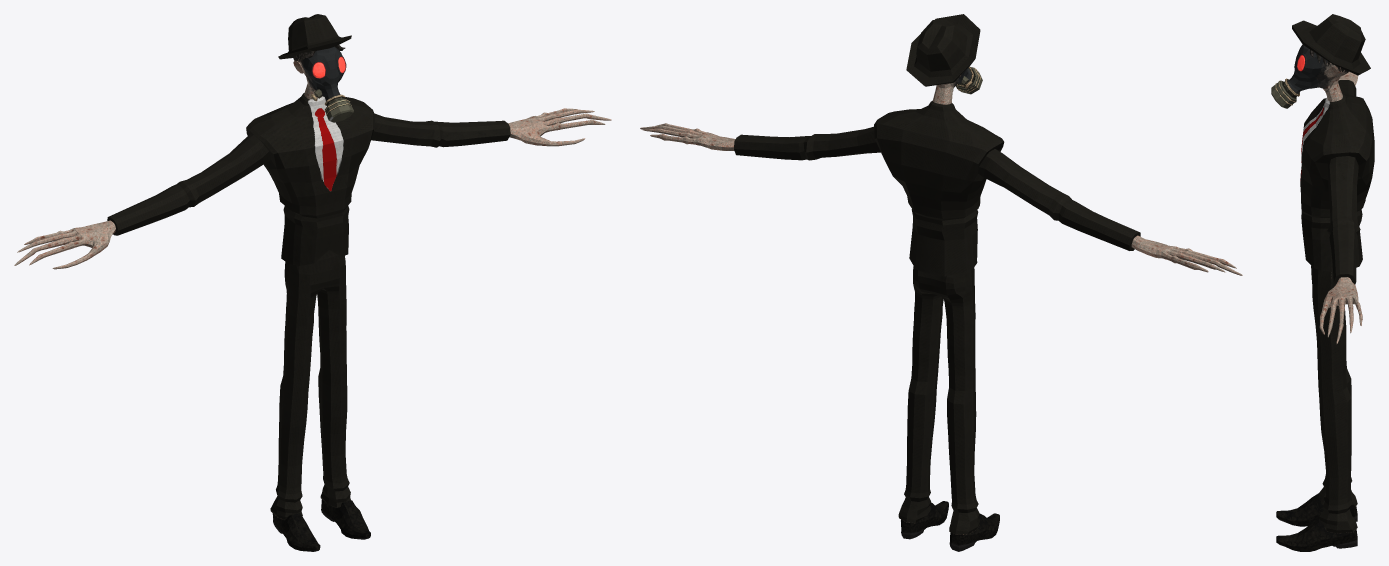
Rendered from RESIZED_Killer Mixamo TPose.fbx.
The picture shows the model from 3 angles, left to right: view 1: azimuth 30°, elevation 25°; view 2: azimuth 150°, elevation 25°; view 3: azimuth 270°, elevation 25°; orthographic projection.
Visible parts, largest first — view 1: TPose Only; view 2: TPose Only; view 3: TPose Only.
Part boxes in pixels (box(x1,y1,x2,y2)): TPose Only: box(14, 14, 611, 551); TPose Only: box(640, 14, 1242, 551); TPose Only: box(1271, 14, 1374, 551).
Size of the model in its own units: 289 by 237 by 42.98.
Materials: 1 (1 with a texture image).
